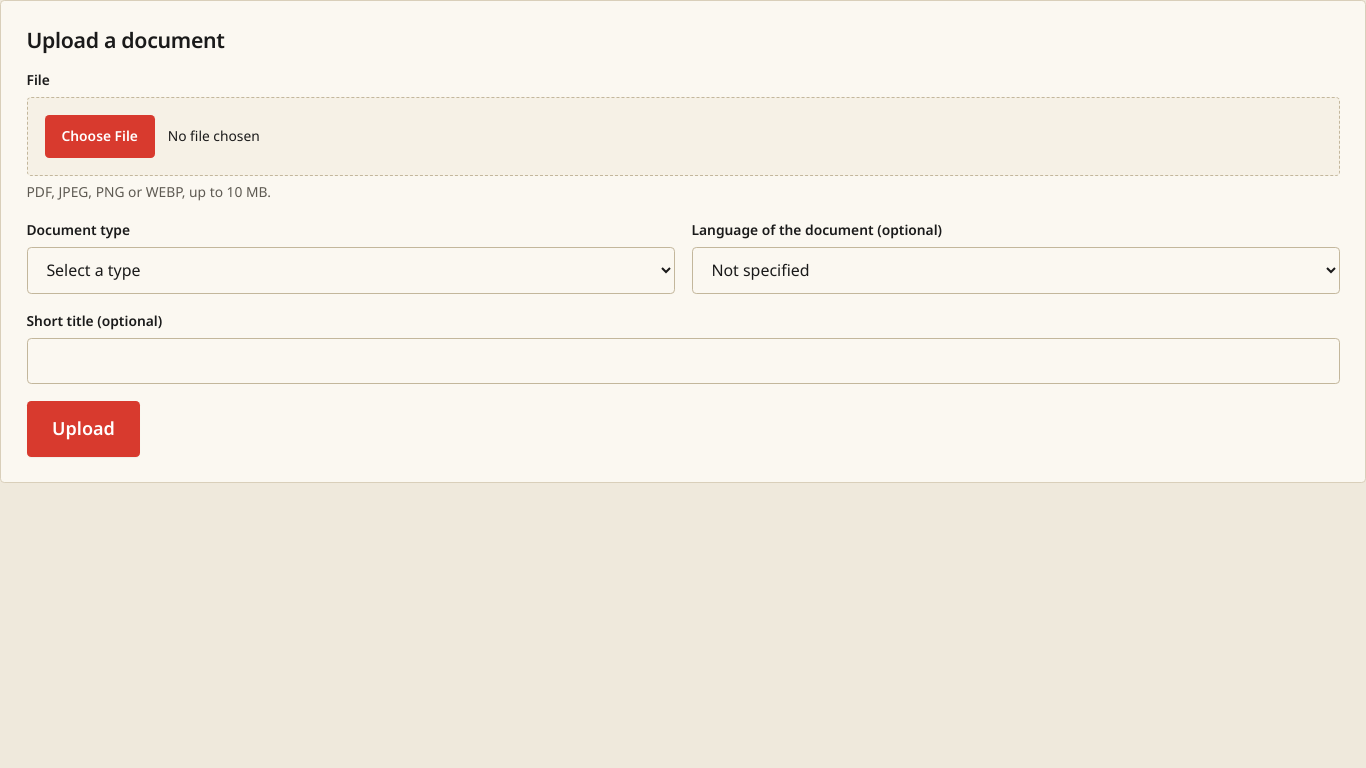
UploadForm › requires a file and a document type before uploading
Click the button "Upload": (83, 429) [26,401,140,457]
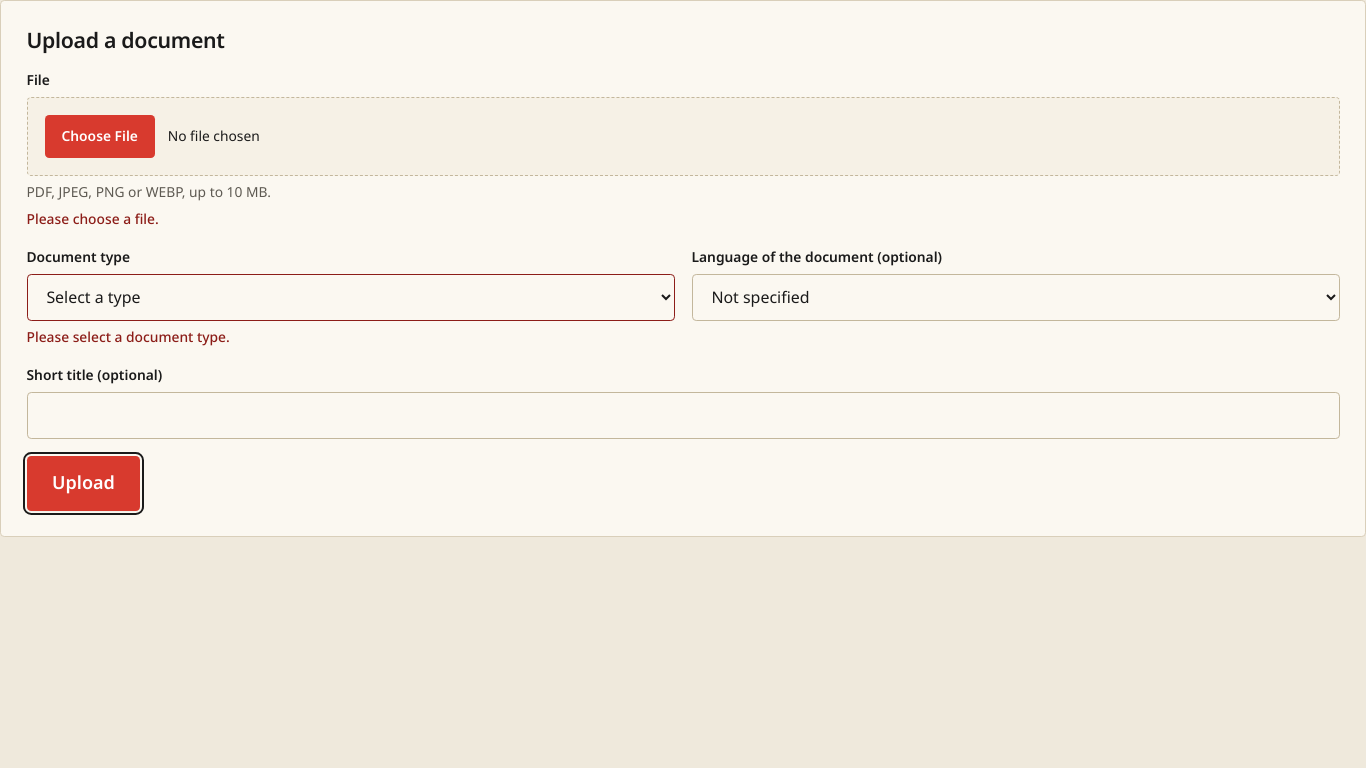
Result: the text "Please choose a file." is shown at [26,209,159,228]
Result: the text "Please select a document type." is shown at [26,327,230,346]
